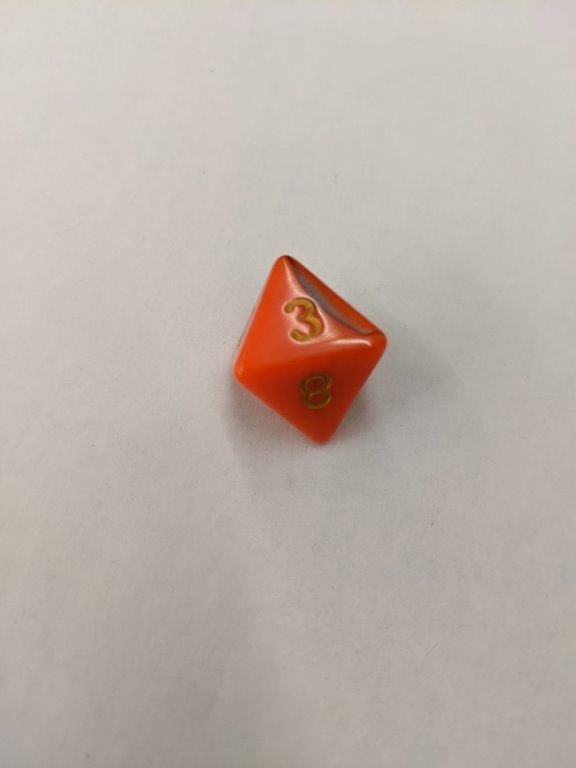d8-3: (230, 253, 387, 449)
